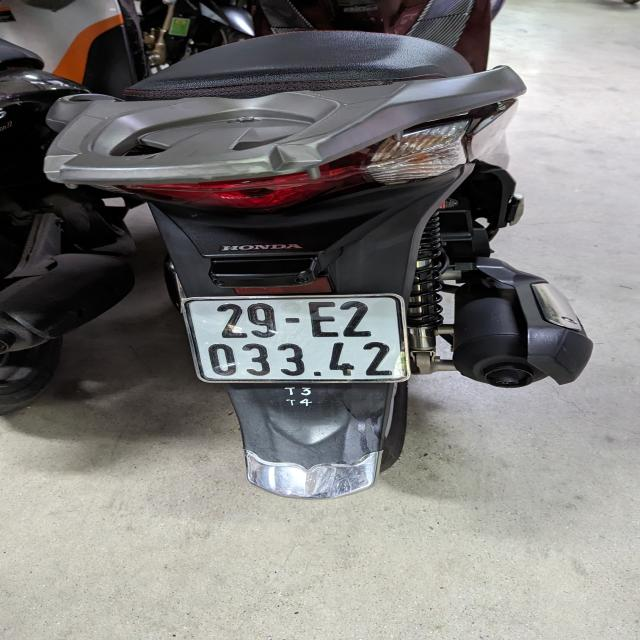License: (181, 292, 409, 383)
